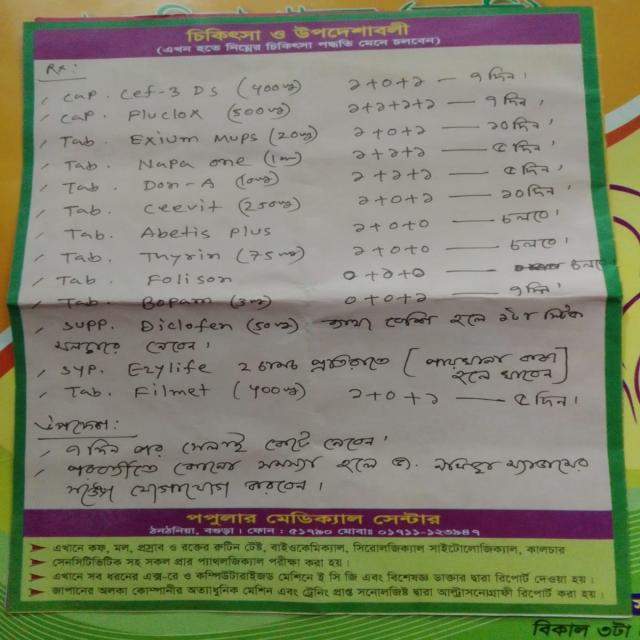Abetis Plus: (142, 217, 280, 243)
Bopam: (134, 295, 218, 314)
Ceevit: (137, 196, 231, 217)
Cef-3 DS: (108, 82, 225, 103)
Diclofen: (132, 315, 243, 339)
Don A: (132, 175, 229, 194)
Exium Mups: (123, 127, 263, 150)
Ezylife: (117, 359, 228, 378)
Filmet: (125, 384, 227, 404)
Fluclox: (117, 103, 211, 125)
Folison: (141, 269, 241, 293)
Napa One: (123, 148, 252, 176)
Thyrin: (135, 245, 232, 265)
